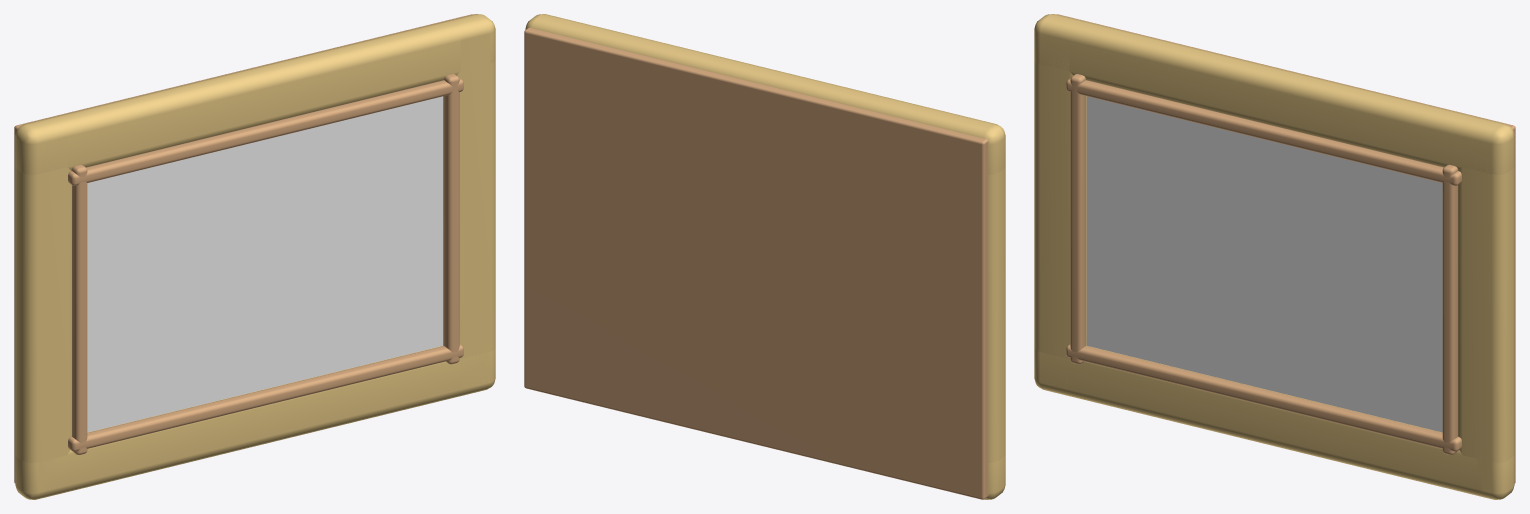
Rendered from frame4.glb.
3 views of the same model, side by side, from view 1: azimuth 30°, elevation 25°; view 2: azimuth 150°, elevation 25°; view 3: azimuth 330°, elevation 25° (orthographic).
Visible parts, largest first — view 1: canvas, ft, fb, fl, fr, ib, it, ir, il, back; view 2: back, ft, fl, fb; view 3: canvas, ft, fb, fr, fl, ib, it, il, ir, back.
Part boxes in pixels (x1,y1,x2,y2): canvas: (87, 96, 443, 432); ft: (15, 14, 495, 174); fb: (15, 346, 495, 499); fl: (15, 117, 71, 499); fr: (443, 14, 495, 392); ib: (68, 344, 463, 451); it: (68, 78, 463, 185); ir: (444, 74, 459, 364); il: (72, 164, 87, 454); back: (14, 14, 473, 483); back: (524, 27, 988, 499); ft: (525, 14, 1005, 174); fl: (954, 117, 1005, 499); fb: (985, 455, 1005, 499); canvas: (1086, 96, 1442, 432); ft: (1034, 14, 1514, 174); fb: (1034, 346, 1514, 499); fr: (1458, 117, 1514, 499); fl: (1034, 14, 1086, 388); ib: (1066, 344, 1461, 451); it: (1066, 78, 1461, 185); il: (1070, 74, 1085, 364); ir: (1442, 164, 1457, 454); back: (1056, 14, 1515, 483).
Bounding box in the file's own units: 0.8 × 0.6 × 0.075.
